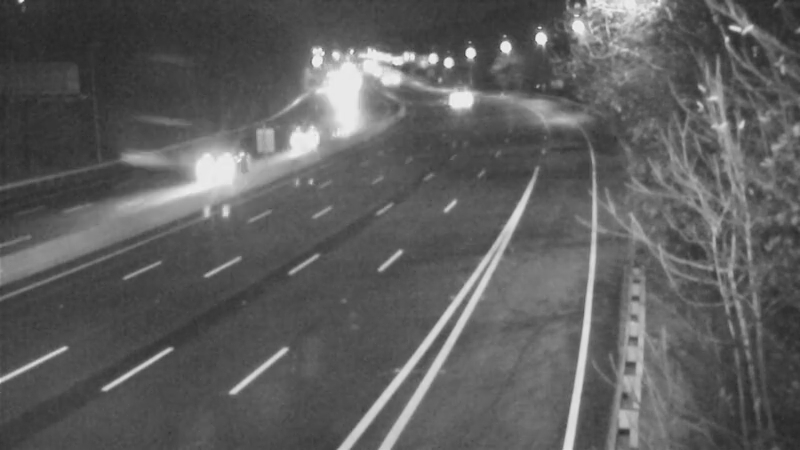vehicle: (182, 127, 262, 207), (427, 74, 477, 124), (284, 109, 334, 159)
